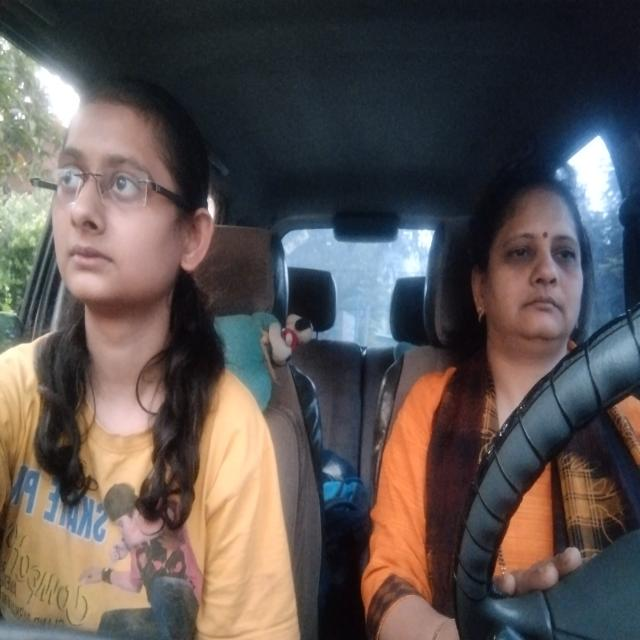person: (52, 101, 215, 293), (468, 189, 590, 335)
